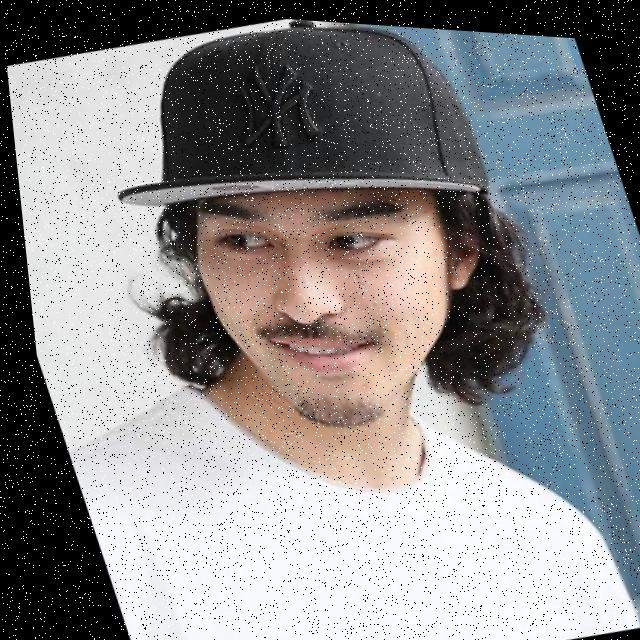illegal_helmet: (58, 3, 580, 476)
